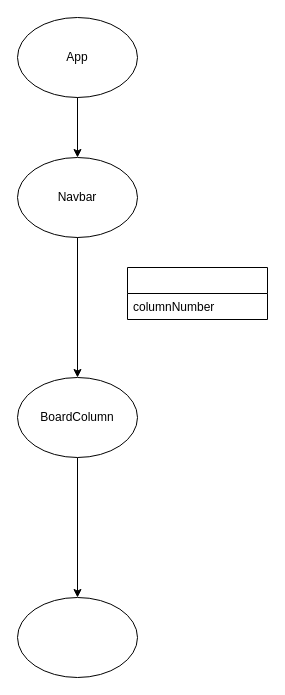
Some shapes in this 285 by 695 pixel diagram are drawn without their labels. The box of each missing label's shape, as (x1, y1, x2, y2) in pixels:
Card: (16, 596, 138, 678)
State-Props: (126, 266, 268, 320)
